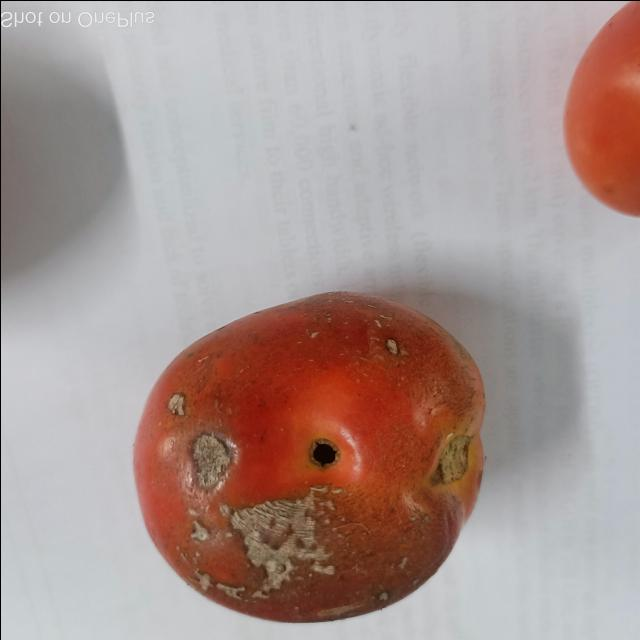fruitworm_bore: (182, 435, 238, 495), (299, 434, 343, 474)
